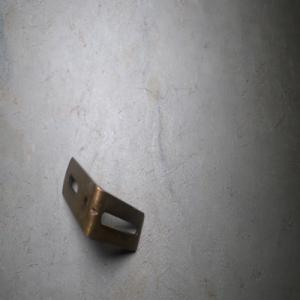MetalPart: (61, 155, 145, 254)
